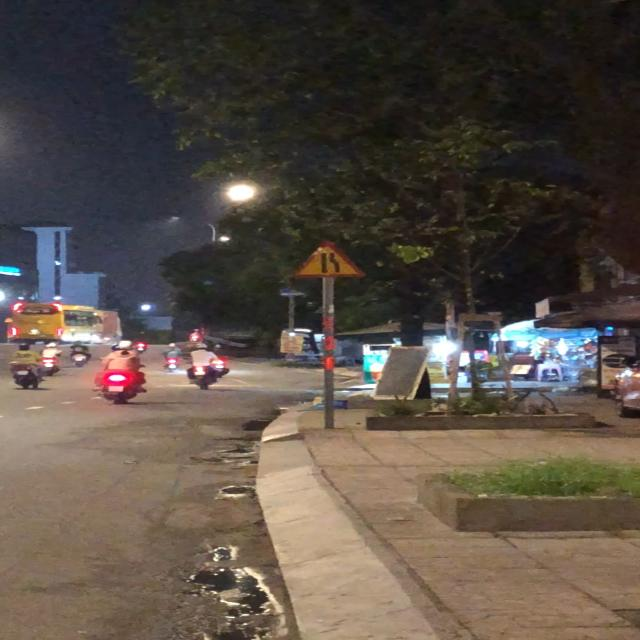Bien bao duong bi thu hep: (285, 241, 366, 279)
